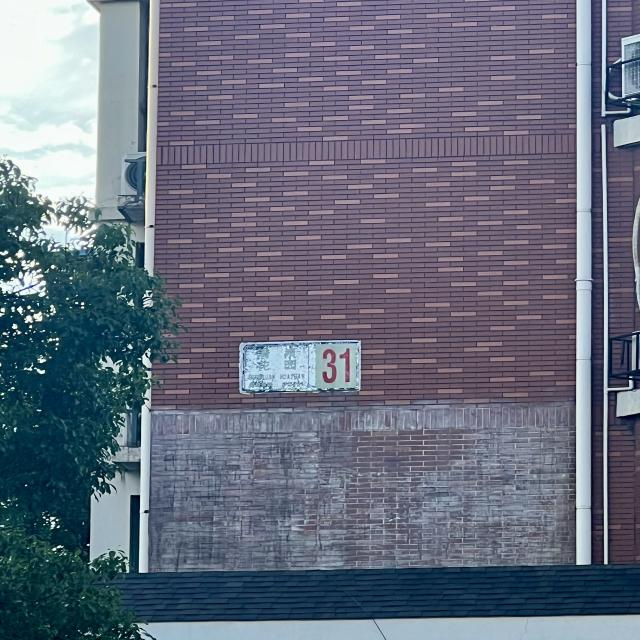efflorescence: (148, 412, 576, 569)
